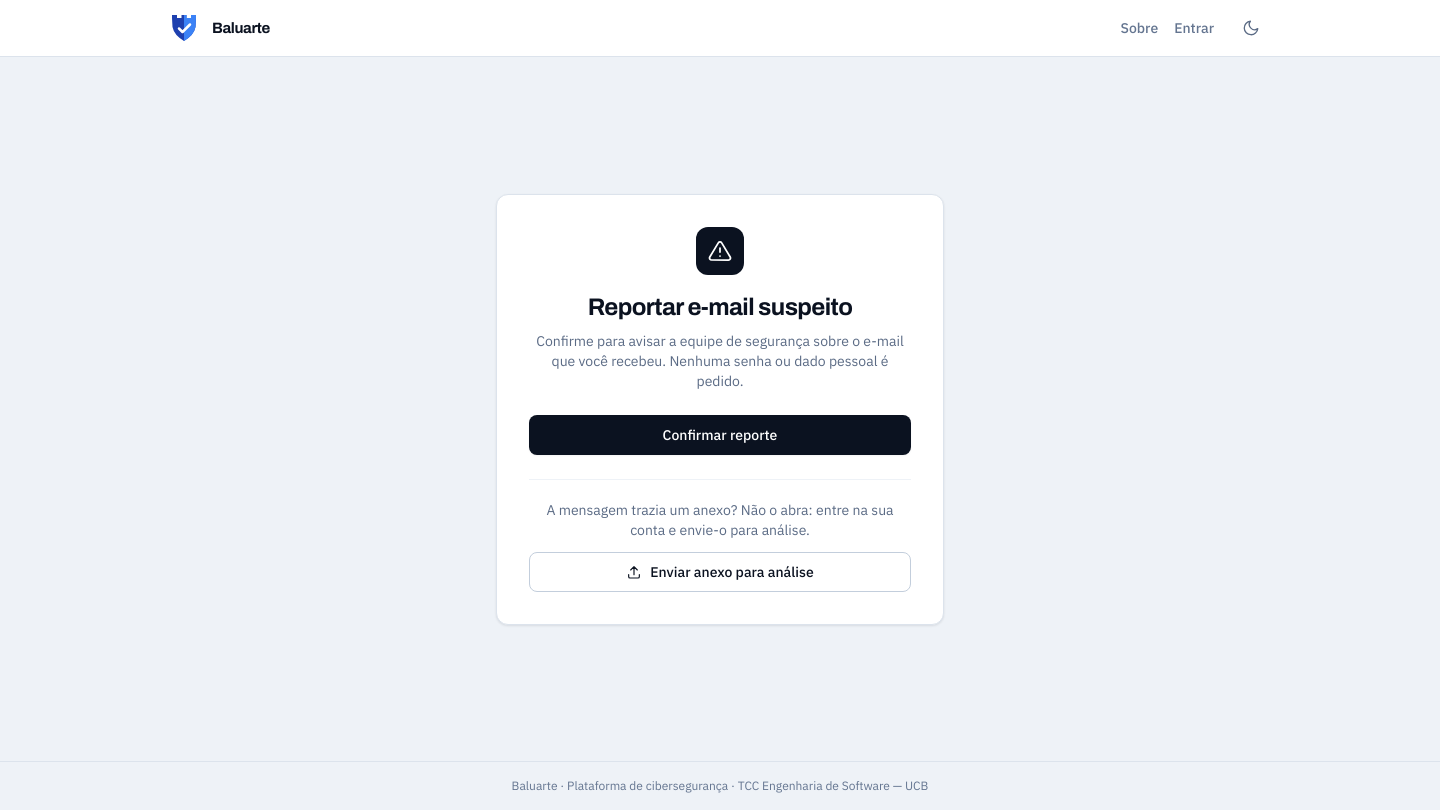
Test: /t/:token/reportar › link inválido mostra aviso, sem erro genérico
Step 1. Click the button "Confirmar reporte" → (720, 434), box x1=529 y1=414 x2=911 y2=454
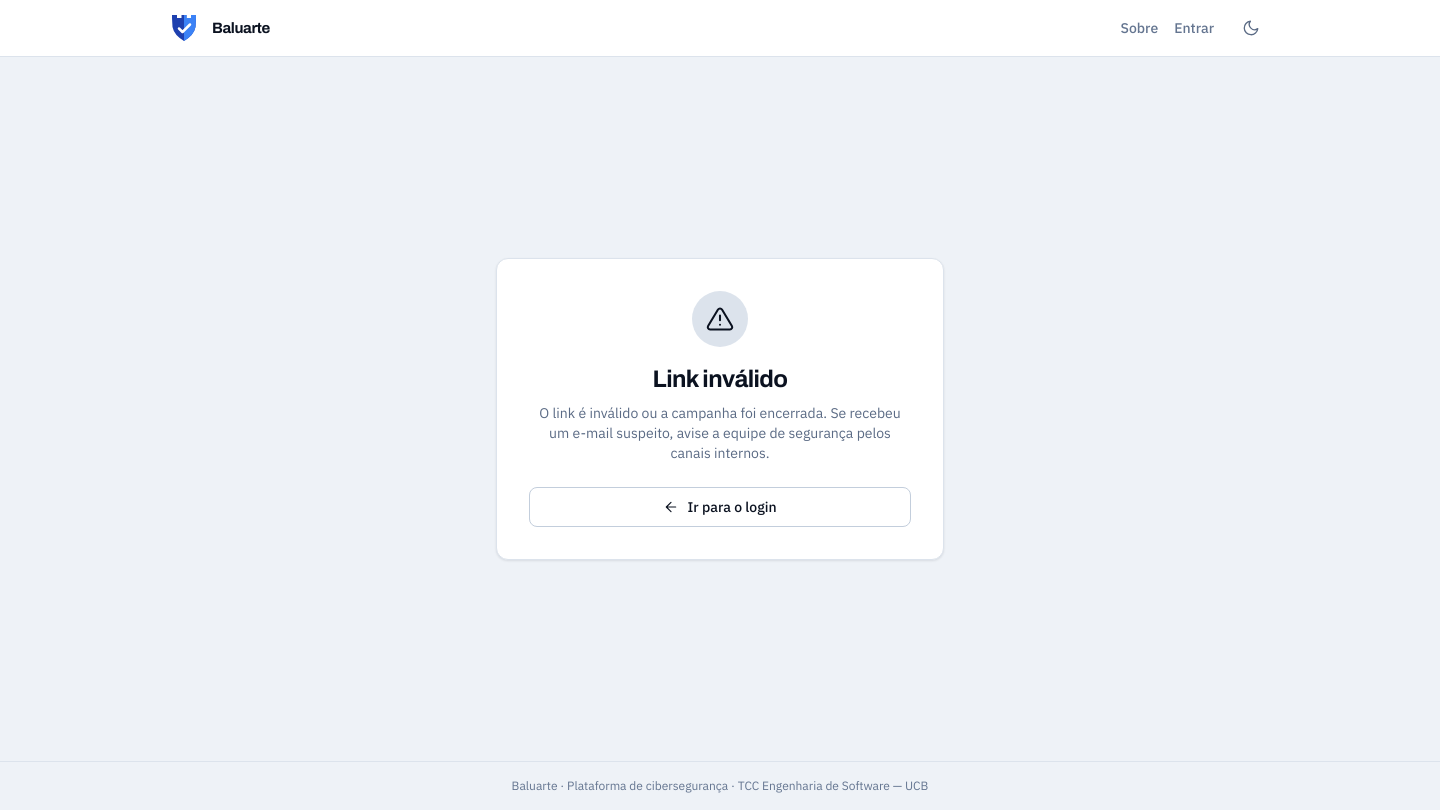
Result: the heading "Link inválido" is shown at x1=653 y1=363 x2=788 y2=395
